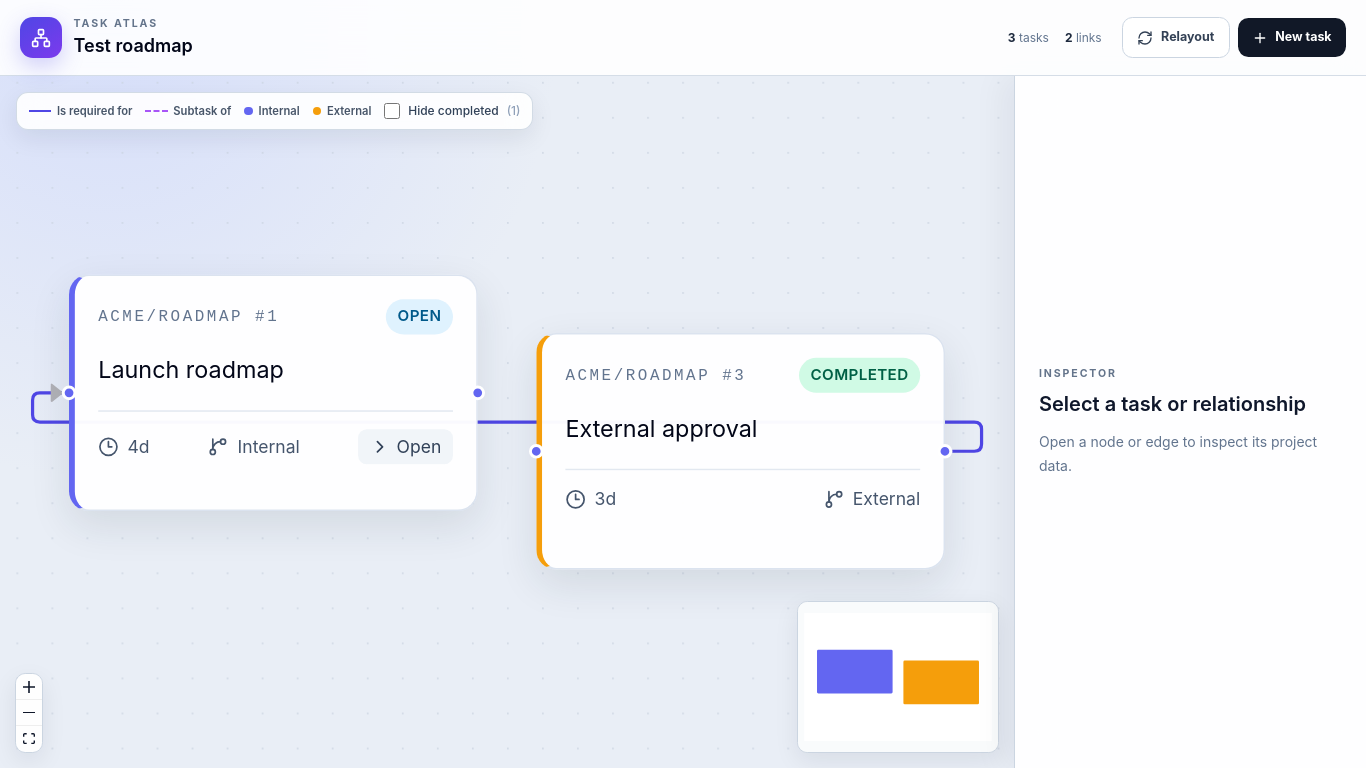
Test: App › creates a cancelled task with Control+Enter
Click the button "New task" at (1292, 38), box [1238,18,1346,57]
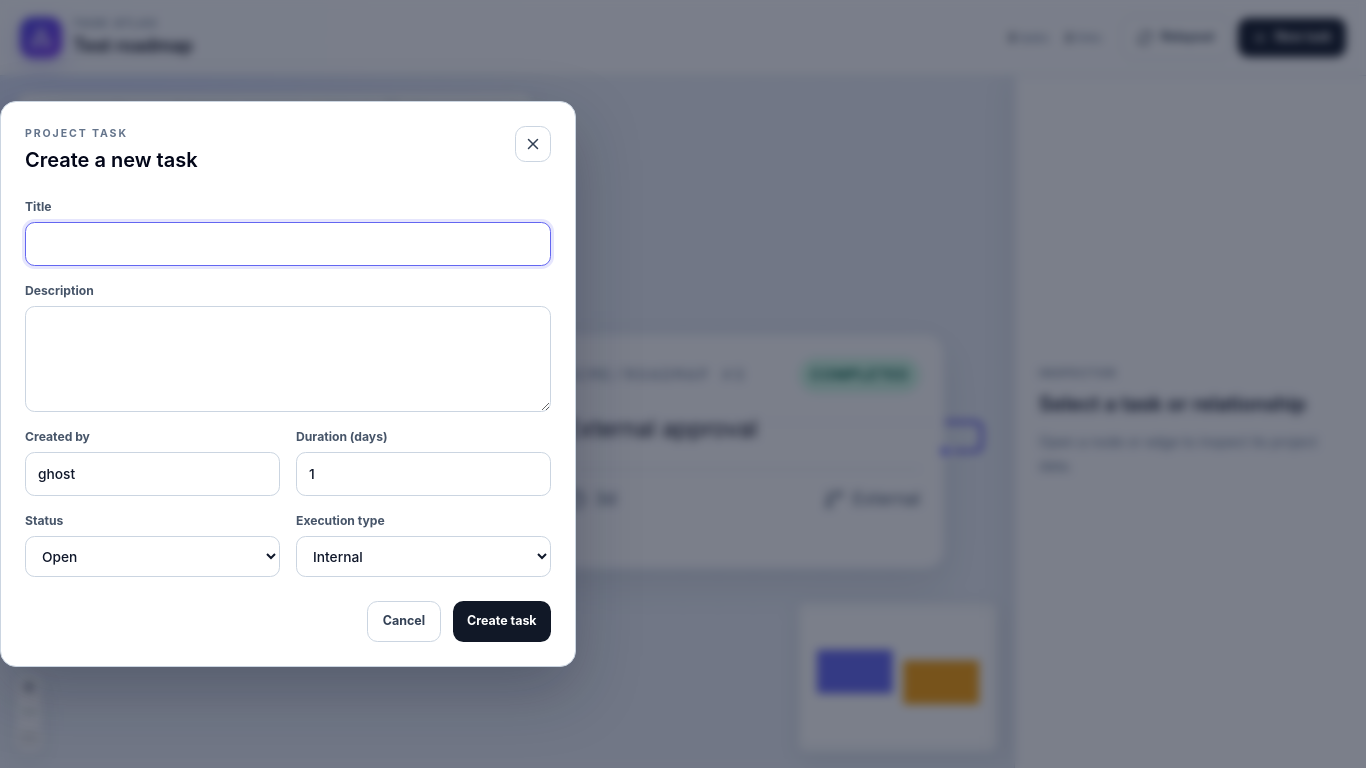
Type "Cancelled initiative" into the field labelled "Title" at (288, 244), box [25,222,551,266]
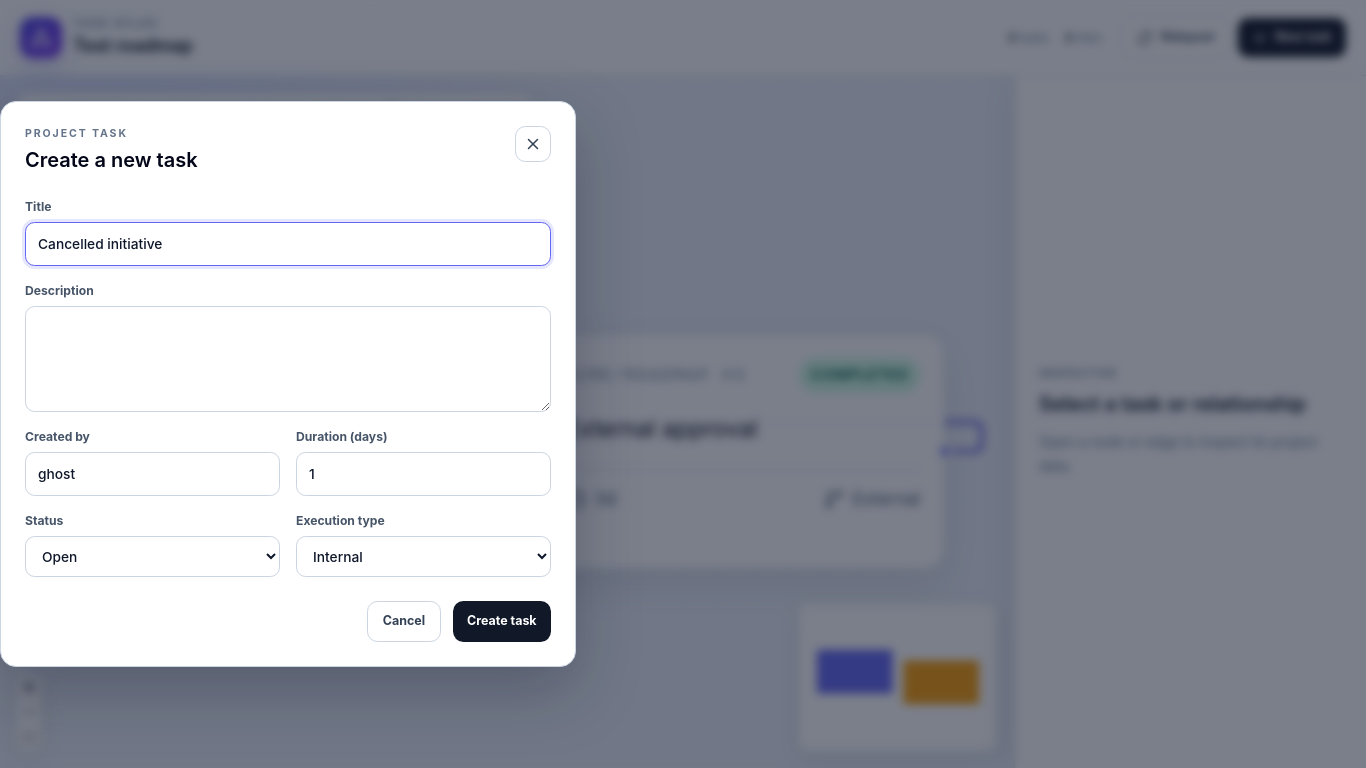
Select "Cancelled" in the dropdown labelled "Status" at (152, 557), box [25,536,280,577]
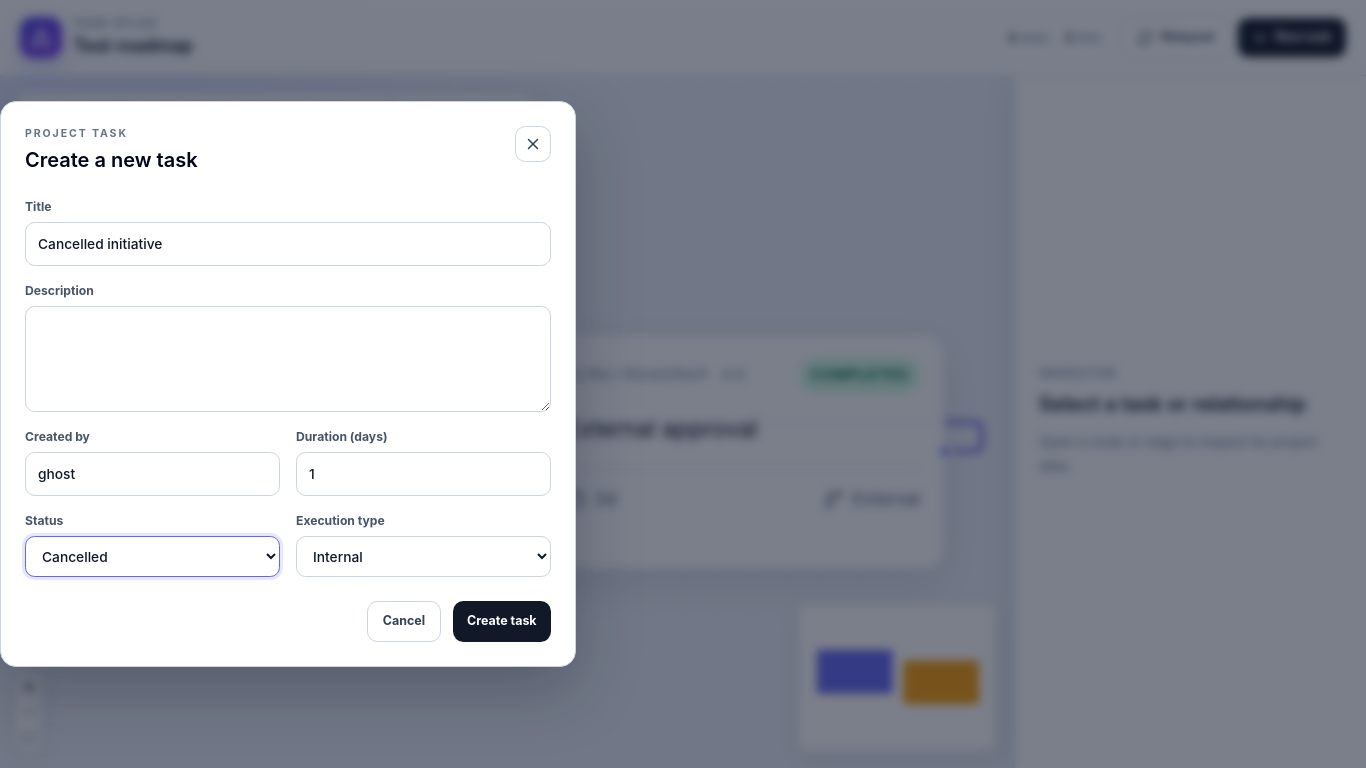
Type keys "{Control>}{Enter}{/Control}"
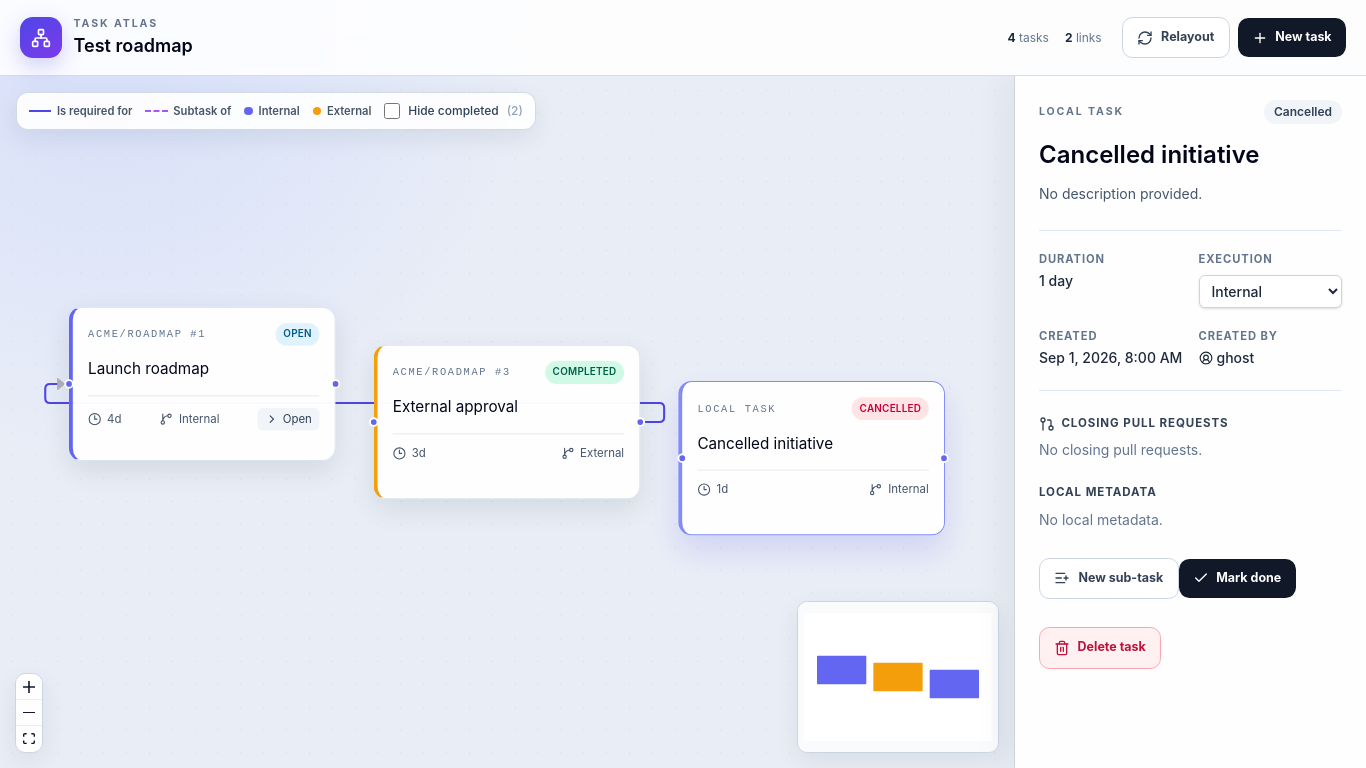
Now the dialog is gone
